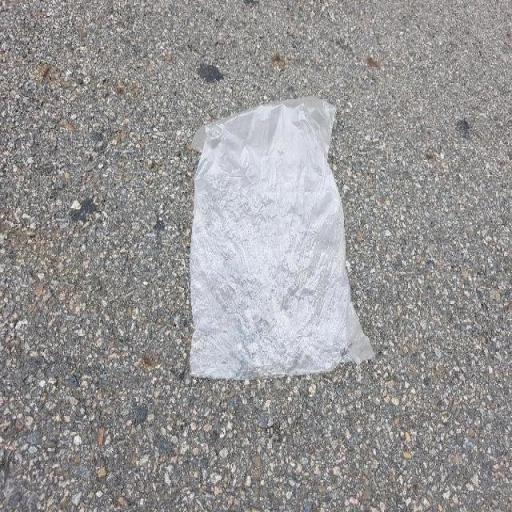plastic-bag: (185, 90, 380, 382)
